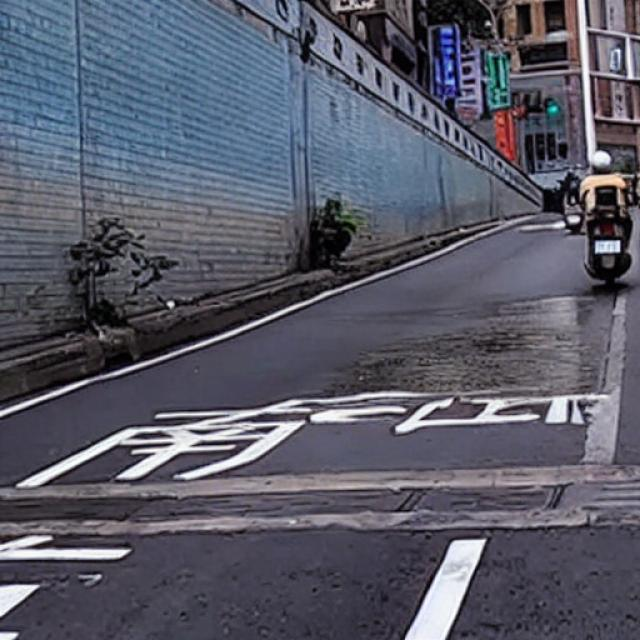puddle: (333, 288, 615, 397)
